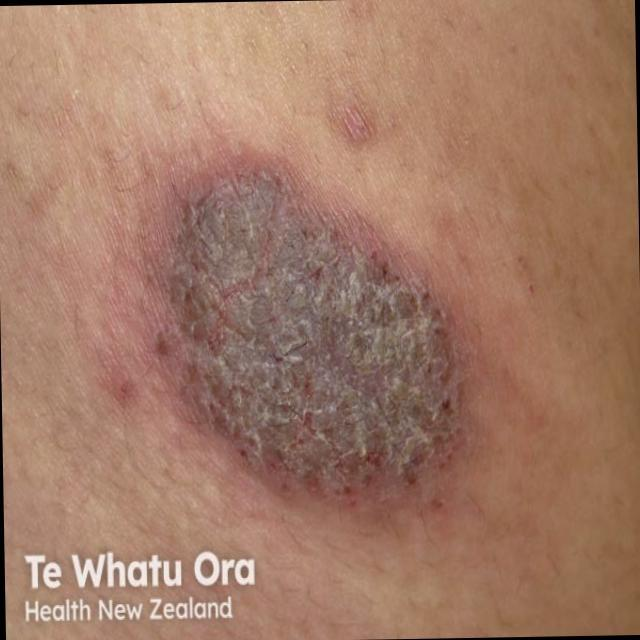Eczema: (146, 148, 471, 517)
